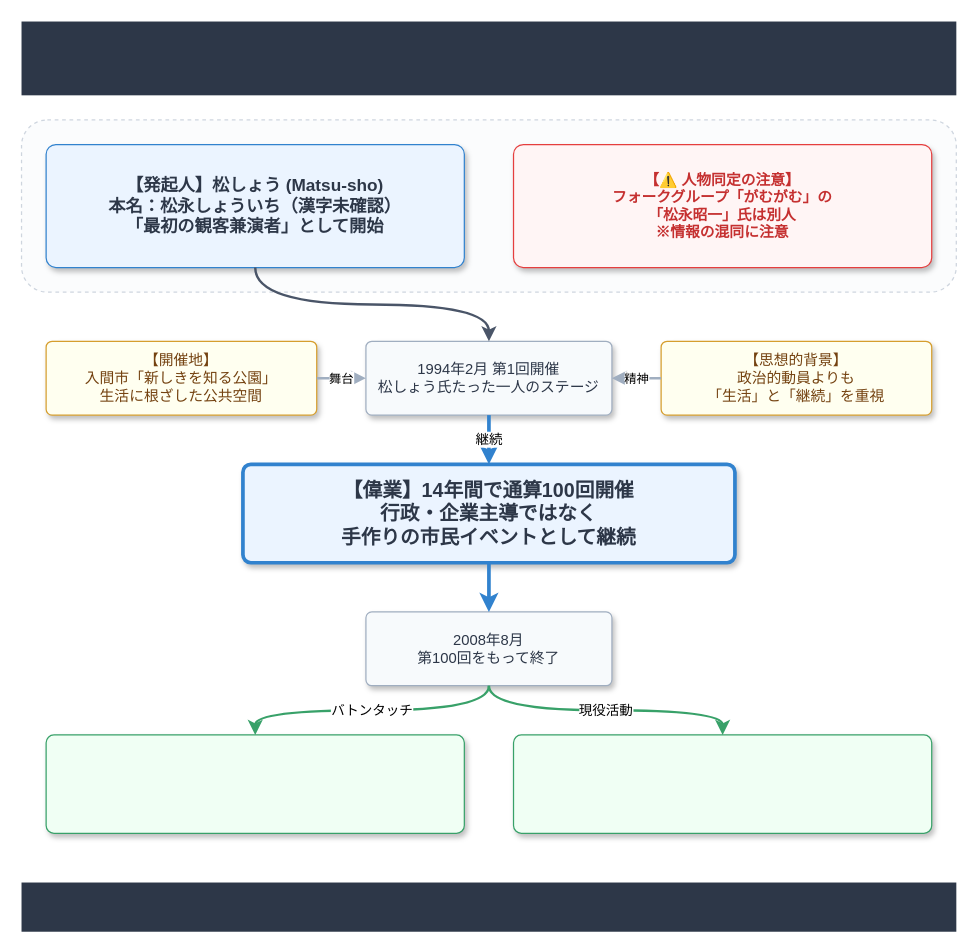
Image size: 978x952. Some labels were removed from this diagram. Here are the shapes that lost their labels. From the top down, the centre of each, then its label:
At (x=488, y=58): "入間川フォークジャンボリーの軌跡：発起人・松しょう氏と地域文化の14年".
At (x=256, y=785): "【継承】入間サウンドヘヴン ゆっこらんど氏らが精神を継承 現在も地域に根付く".
At (x=723, y=785): "【現在】2026年3月15日 「新しきを知る公園」にて 松しょう氏ライブ開催".
At (x=488, y=906): "結論：一人の情熱が地域文化（フォーク）を育て、世代を超えて継承された稀有な事例".
